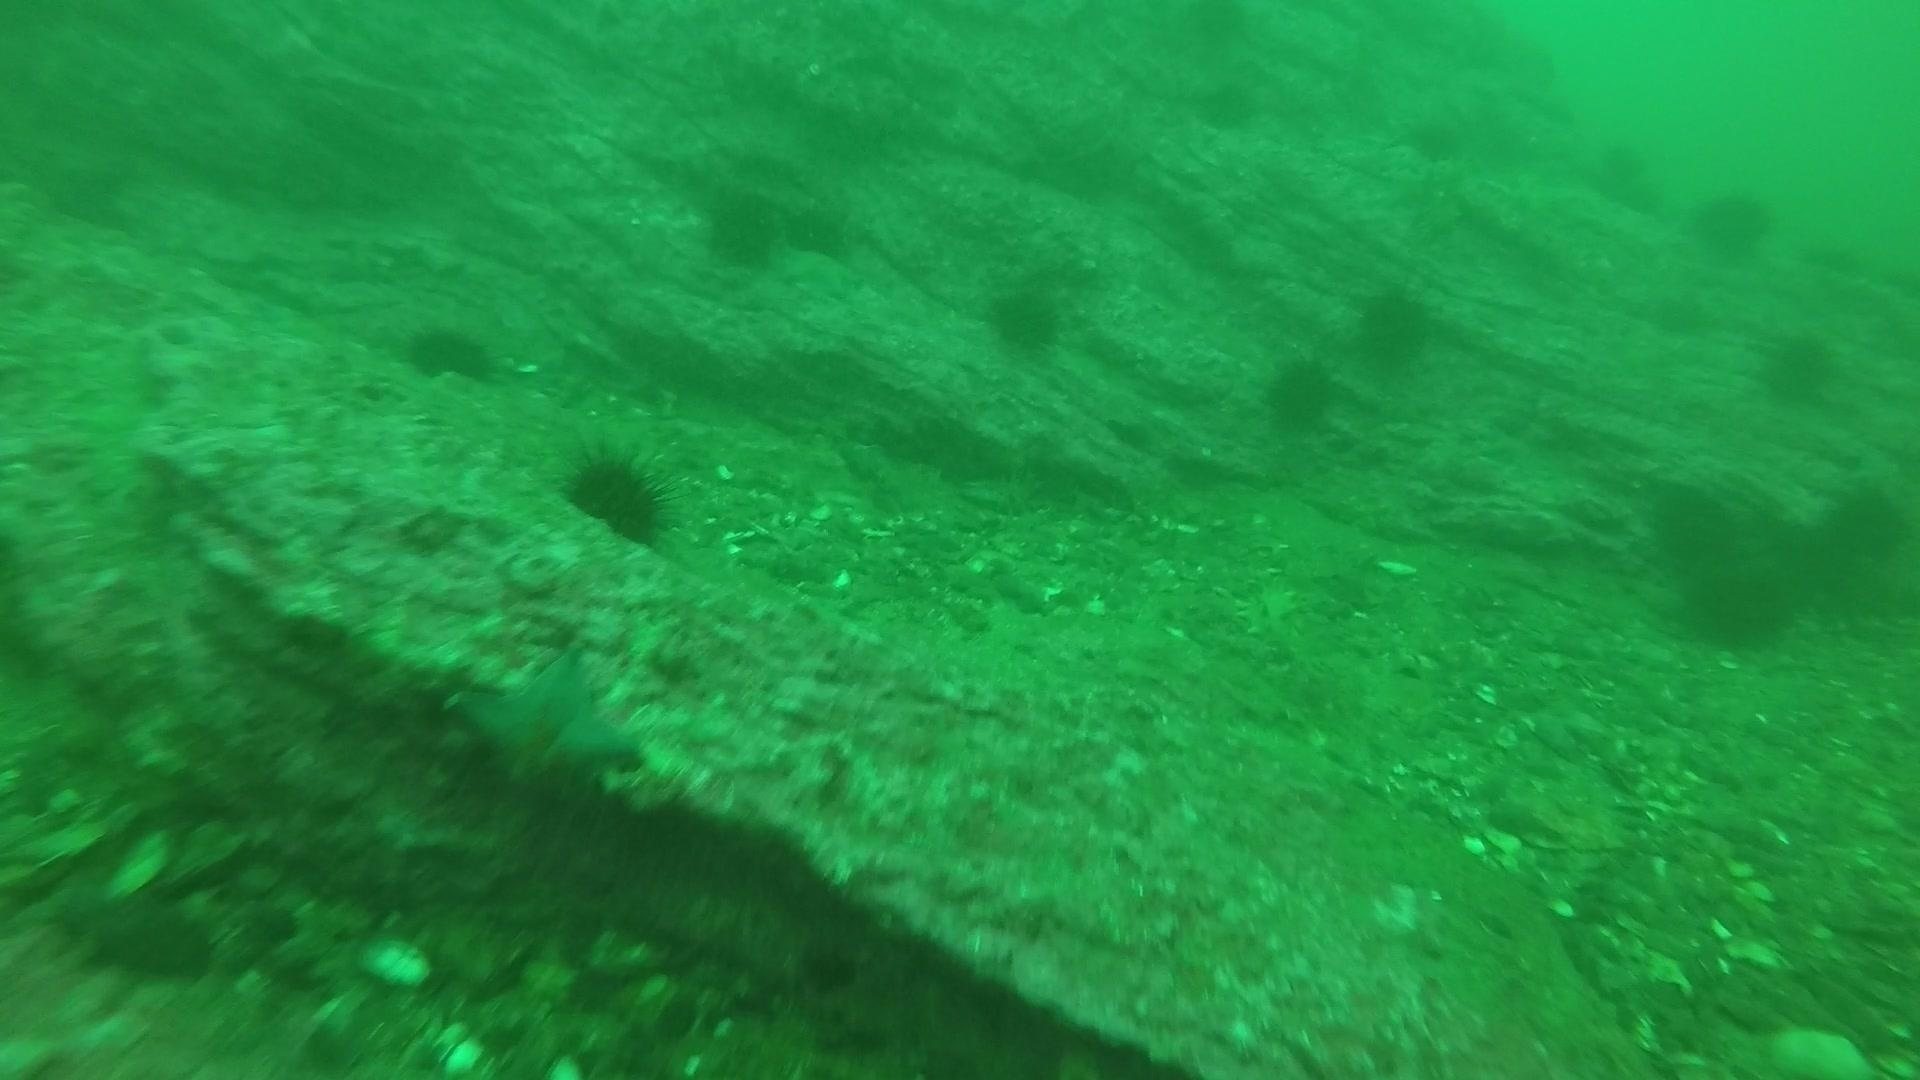echinus: (558, 440, 680, 553), (1672, 553, 1801, 653), (1348, 278, 1440, 373), (696, 182, 791, 273), (1255, 349, 1344, 438), (978, 276, 1069, 361), (1753, 324, 1844, 409), (398, 316, 500, 390), (1687, 181, 1778, 262), (1189, 73, 1261, 135), (1400, 115, 1472, 175)
starfish: (444, 640, 647, 804), (1232, 574, 1311, 651), (769, 243, 864, 305)
